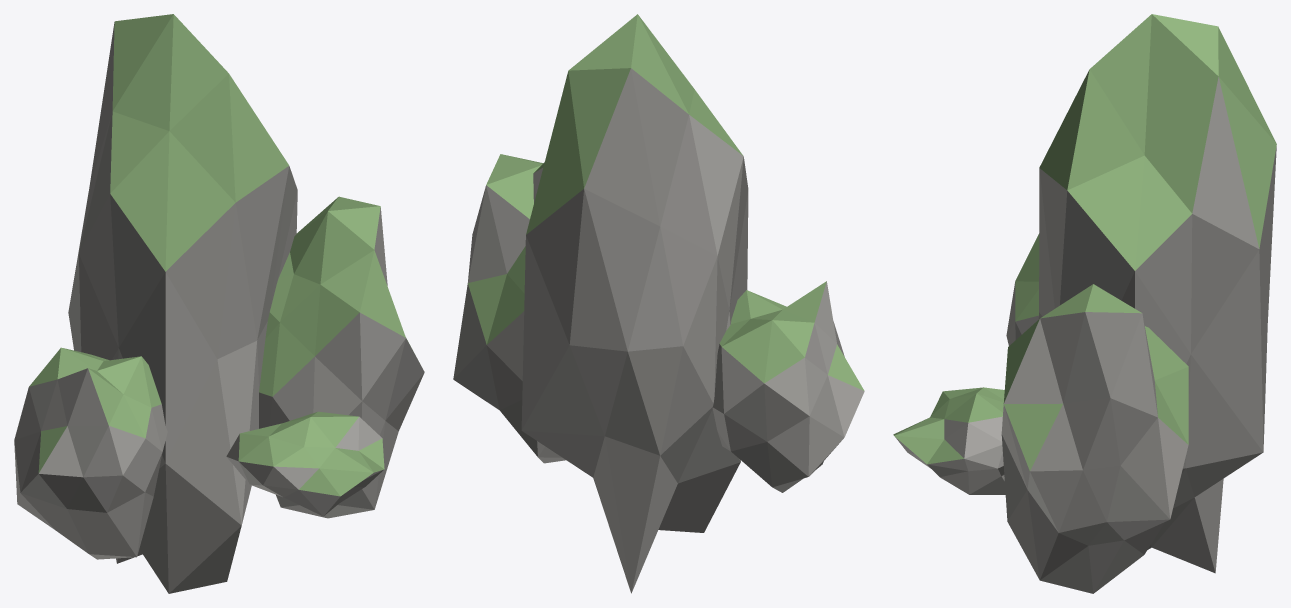
The model's file is pillars.glb.
3 renders of one model, left to right at view 1: azimuth 30°, elevation 25°; view 2: azimuth 150°, elevation 25°; view 3: azimuth 270°, elevation 25°, orthographic. The views are drawn at different scales.
Parts seen in each view (by area): view 1: pillars; view 2: pillars; view 3: pillars.
Boxes of the visible parts, box(x1,y1,x2,y2) form: pillars: box(14, 14, 424, 593); pillars: box(453, 14, 864, 593); pillars: box(893, 14, 1276, 593).
Size of the model in its own units: 2.99 by 4.32 by 2.63.
